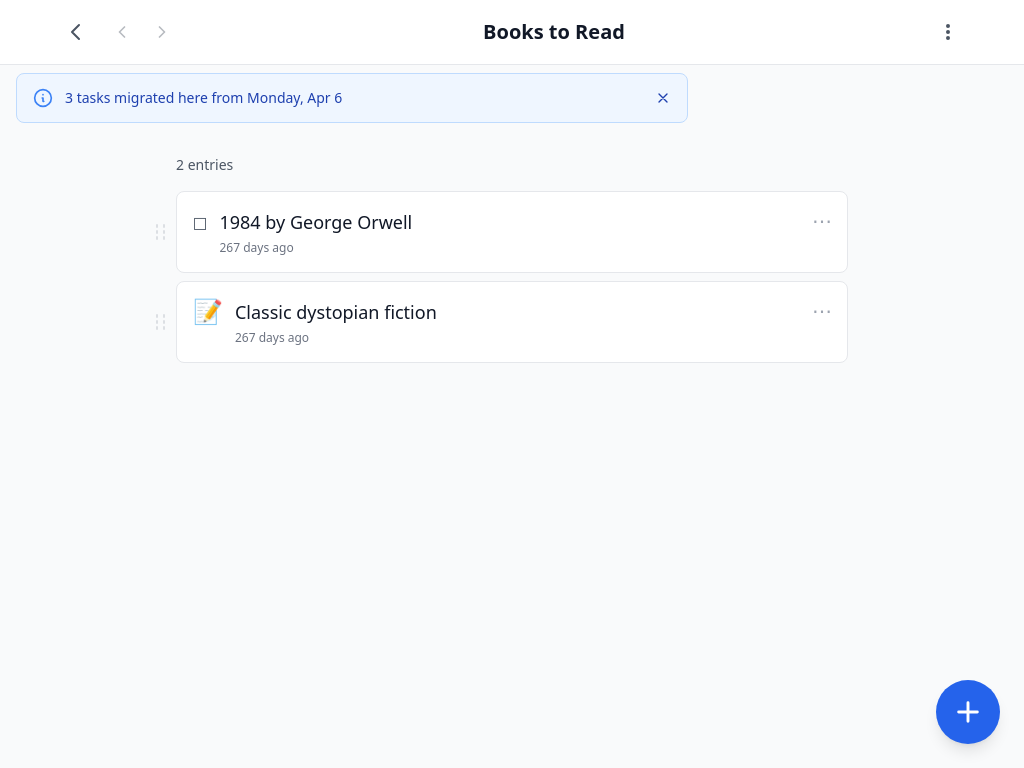
Test: CollectionDetailView › should hide migration banner when dismiss button is clicked
Check: the text "3 tasks migrated here from Monday, Apr 6" is shown, box 65,88 -> 342,107
Click the button named "dismiss": point(663, 98) 651,86 -> 675,110
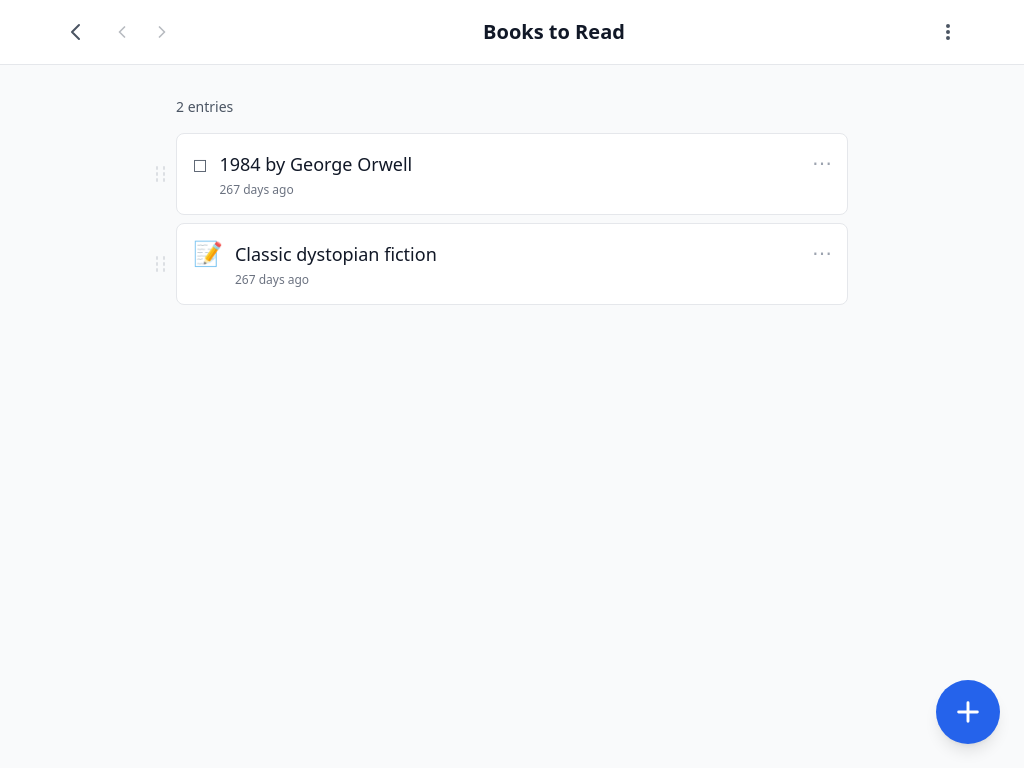
Check: the text "3 tasks migrated here from Monday, Apr 6" is gone
